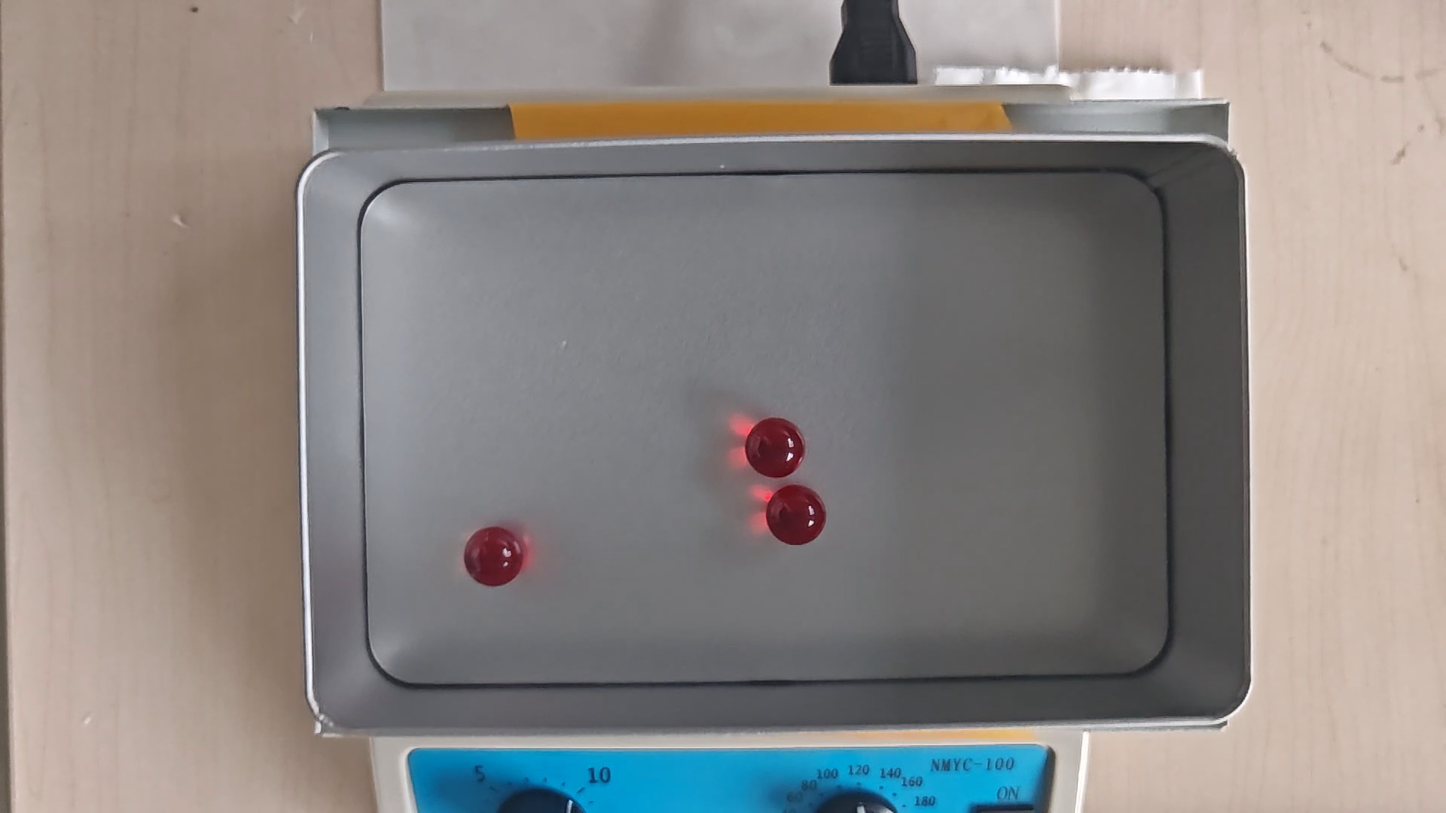ball: (766, 486, 828, 547), (747, 417, 807, 478), (464, 528, 522, 586)
container: (356, 177, 1173, 682)
